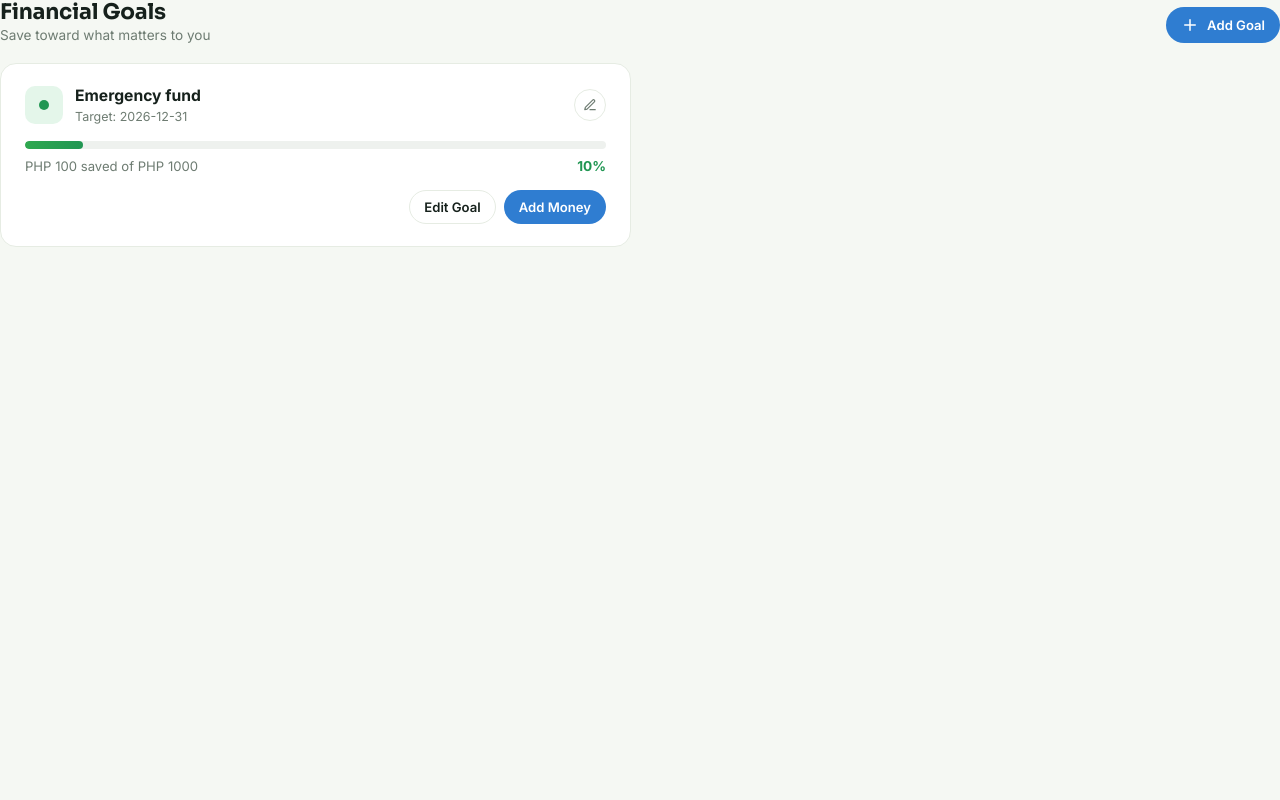
Test: adds money to a goal without editing the goal definition
Click the button with aria-label "Add money to Emergency fund": (555, 207) [504, 190, 606, 224]
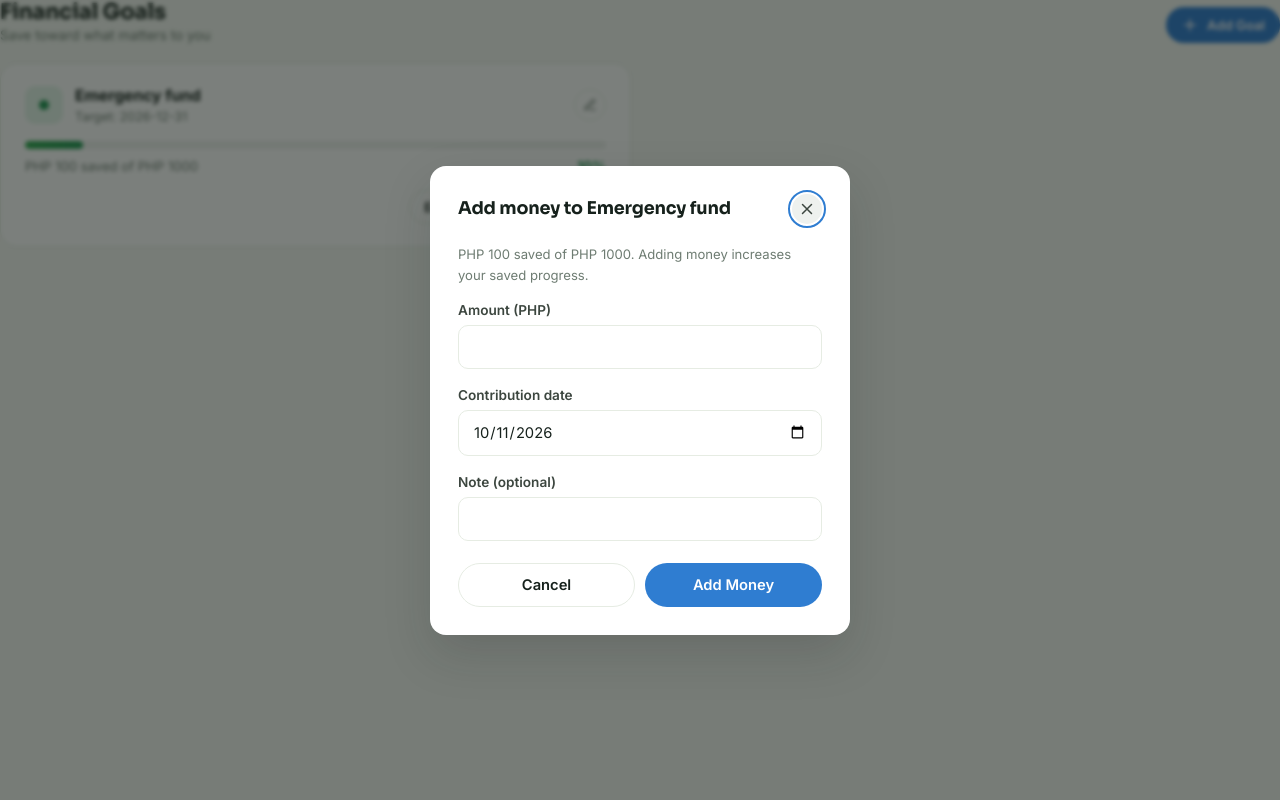
In the number field labelled "Amount (PHP)": (640, 346) [458, 324, 822, 368], type "250"
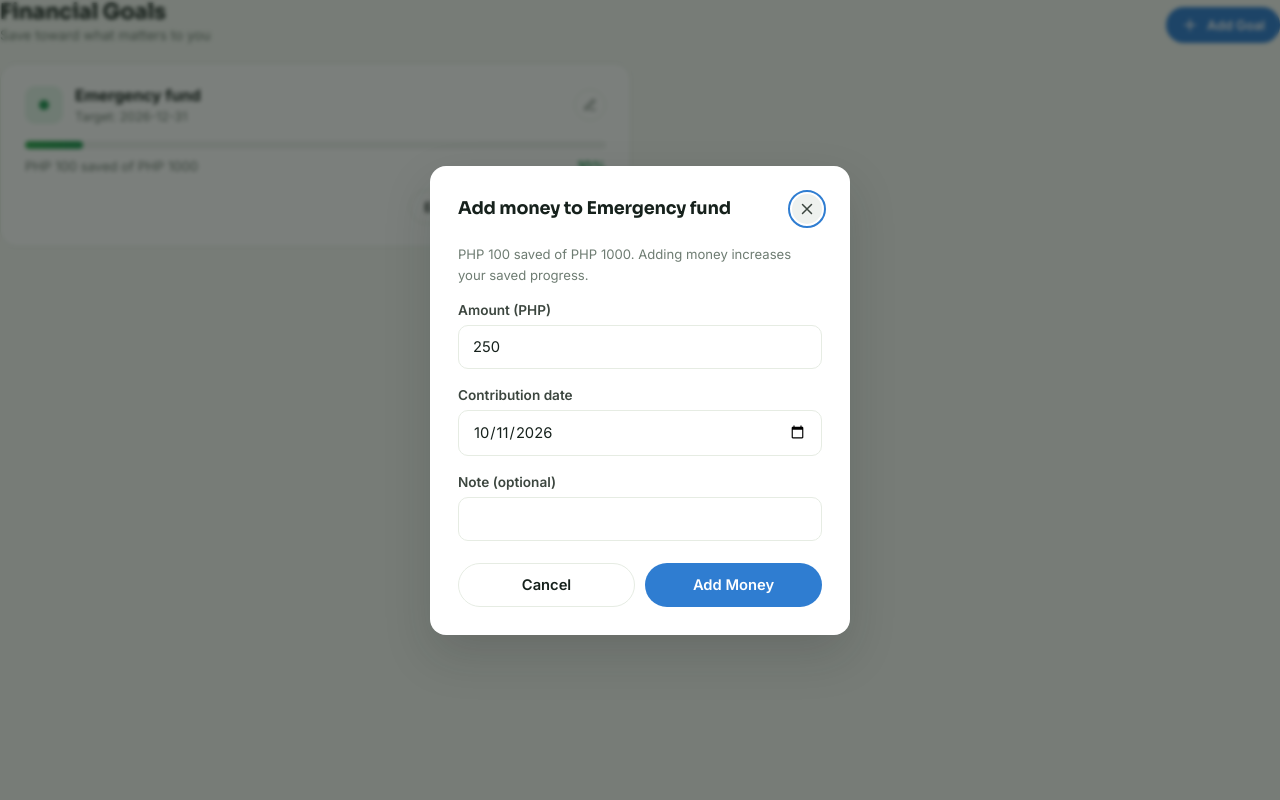
Click the button "Add Money": (734, 584) [645, 562, 822, 606]
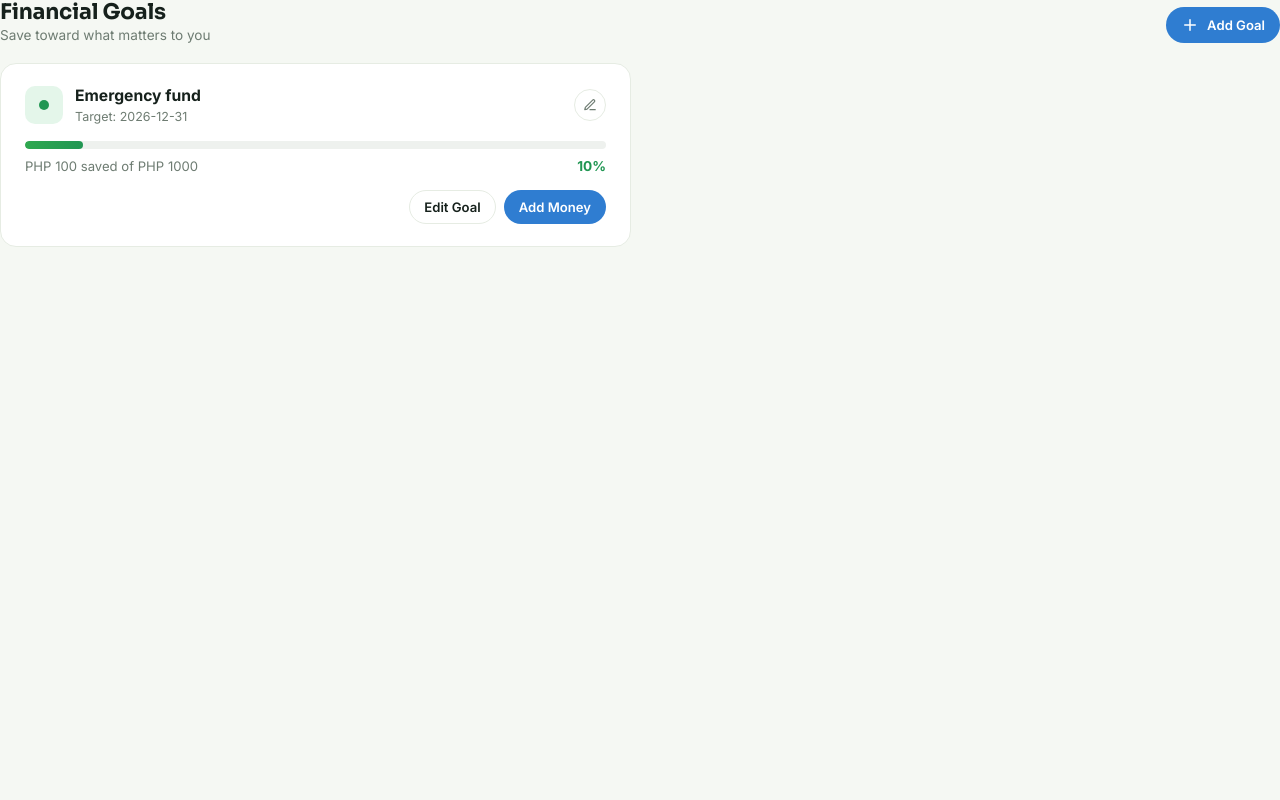
Expected: the dialog is gone
